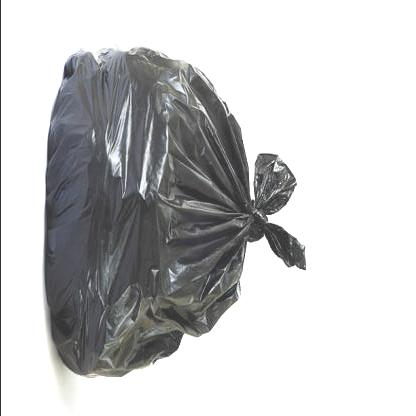black_bag: (44, 44, 306, 378)
